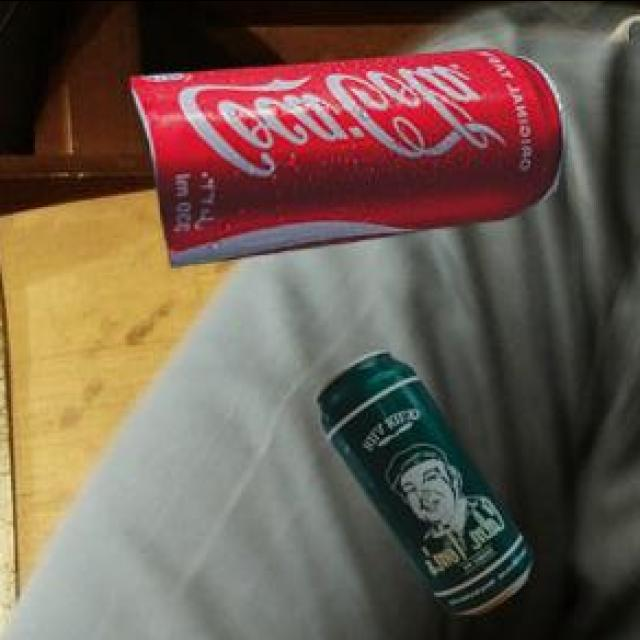logam: (128, 45, 564, 262), (312, 345, 529, 610)
